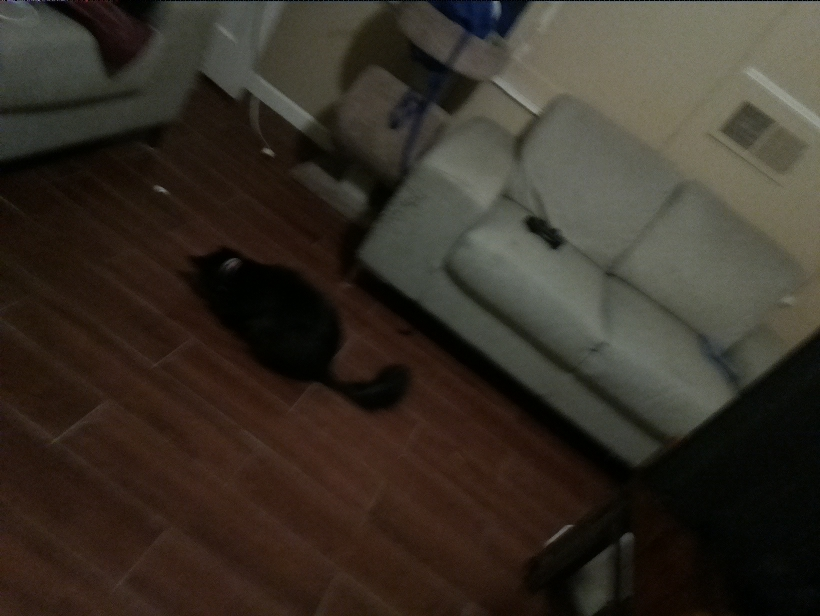cat: (184, 240, 419, 418)
